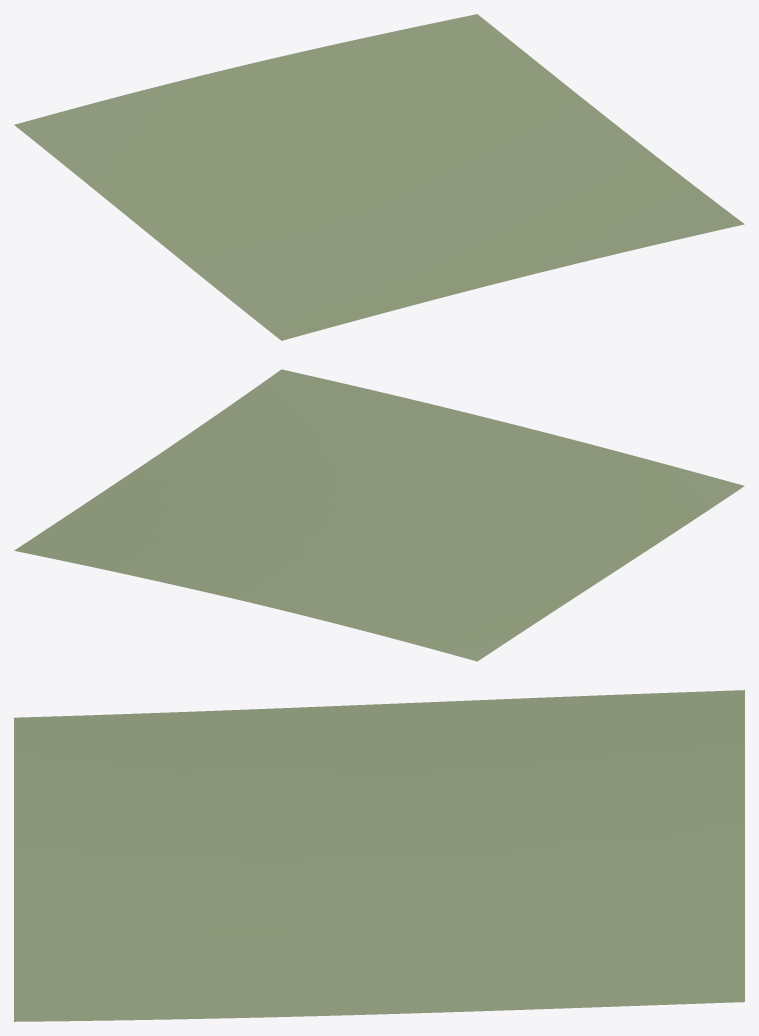
Rendered from expanse-22-18.glb.
The picture shows the model from 3 angles, top to bottom: view 1: azimuth 30°, elevation 25°; view 2: azimuth 150°, elevation 25°; view 3: azimuth 270°, elevation 25°; orthographic projection. The views are drawn at different scales.
Visible parts, largest first — view 1: expanse-22-18; view 2: expanse-22-18; view 3: expanse-22-18.
Boxes of the visible parts, x1,y1,x2,y2 form: expanse-22-18: (14,14,744,340); expanse-22-18: (14,369,744,661); expanse-22-18: (14,690,744,1021).
Size of the model in its own units: 256 by 12.55 by 256.
